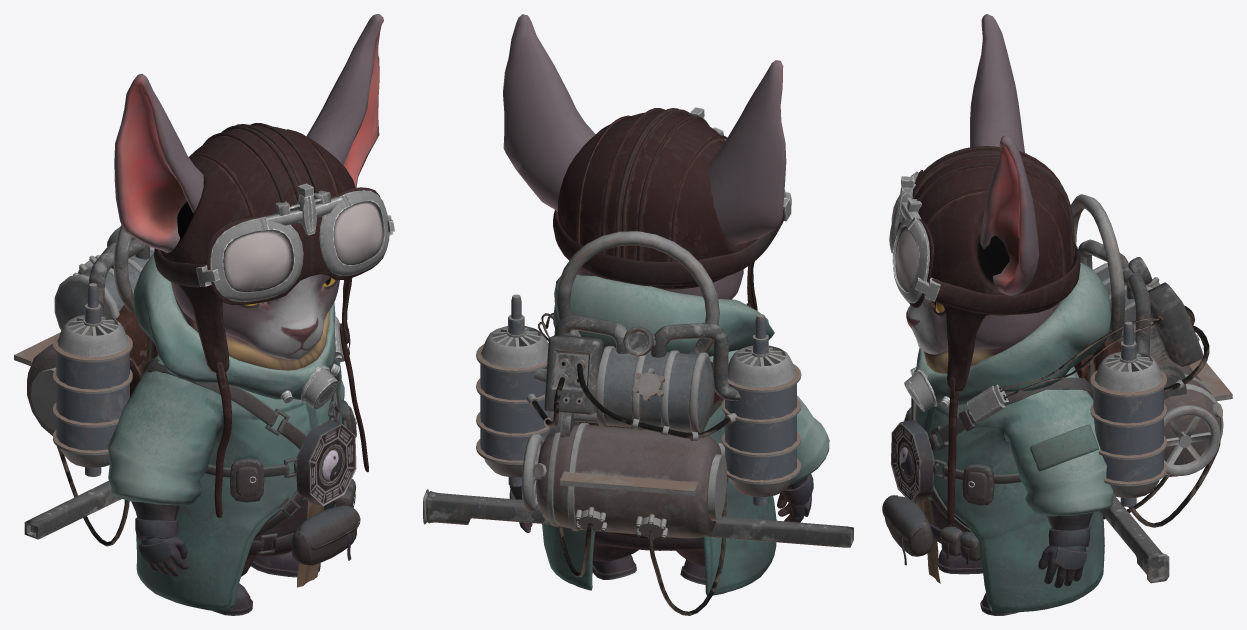
3 views of the same model, side by side, from view 1: azimuth 30°, elevation 25°; view 2: azimuth 150°, elevation 25°; view 3: azimuth 270°, elevation 25° (orthographic). The views are drawn at different scales.
Visible parts, largest first — view 1: jacket_low, head_low, hat1_low, glasses_low, scarf1_low, airbag_engine5_low, octagon_low, belt_bag1_low, airbag_cylinder2_low, glasses_skin_low, weapon1_low, hat3_low (+27 smaller); view 2: head_low, hat1_low, airbag_cylinder1_low, airbag_engine5_low, jacket_low, scarf1_low, airbag_cylinder2_low, weapon1_low, glasses_belt_low, airbag_pipe4_low, airbag_controller_low, airbag_engine4_low (+23 smaller); view 3: jacket_low, hat1_low, head_low, scarf1_low, airbag_engine5_low, glasses_belt_low, glasses_low, airbag_controller_low, octagon_low, airbag_pipe4_low, airbag_valve_low, weapon1_low (+31 smaller).
Part boxes in pixels (<box>): jacket_low: <box>107,355,344,611</box>; head_low: <box>114,14,383,359</box>; hat1_low: <box>160,123,355,373</box>; glasses_low: <box>210,190,389,302</box>; scarf1_low: <box>133,253,335,399</box>; airbag_engine5_low: <box>56,352,129,450</box>; octagon_low: <box>296,419,356,505</box>; belt_bag1_low: <box>291,506,359,565</box>; airbag_cylinder2_low: <box>54,247,154,330</box>; glasses_skin_low: <box>206,187,384,304</box>; weapon1_low: <box>24,480,121,539</box>; hat3_low: <box>214,323,368,518</box>; head_low: <box>503,14,786,299</box>; hat1_low: <box>557,108,757,310</box>; airbag_cylinder1_low: <box>536,424,721,538</box>; airbag_engine5_low: <box>480,364,796,480</box>; jacket_low: <box>542,350,829,595</box>; scarf1_low: <box>553,274,774,356</box>; airbag_cylinder2_low: <box>596,346,714,433</box>; weapon1_low: <box>423,489,853,547</box>; glasses_belt_low: <box>553,209,784,286</box>; airbag_pipe4_low: <box>556,231,719,354</box>; airbag_controller_low: <box>544,335,603,414</box>; airbag_engine4_low: <box>480,326,796,387</box>; jacket_low: <box>916,366,1113,612</box>; hat1_low: <box>912,146,1075,392</box>; head_low: <box>906,14,1060,354</box>; scarf1_low: <box>916,262,1110,405</box>; airbag_engine5_low: <box>1093,388,1163,481</box>; glasses_belt_low: <box>931,243,1080,314</box>; glasses_low: <box>889,171,929,303</box>; airbag_controller_low: <box>1148,282,1202,368</box>; octagon_low: <box>891,419,934,502</box>; airbag_pipe4_low: <box>1070,194,1125,344</box>; airbag_valve_low: <box>1164,405,1220,475</box>; weapon1_low: <box>1099,496,1169,583</box>.
Bounding box in the file's own units: 0.2836 × 0.402 × 0.2469.
3 materials, 3 textured.
